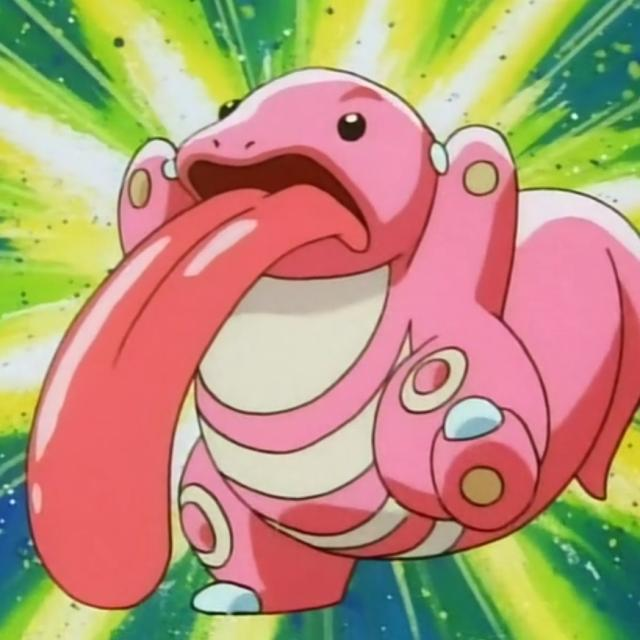Lickitung: (29, 66, 636, 618)
